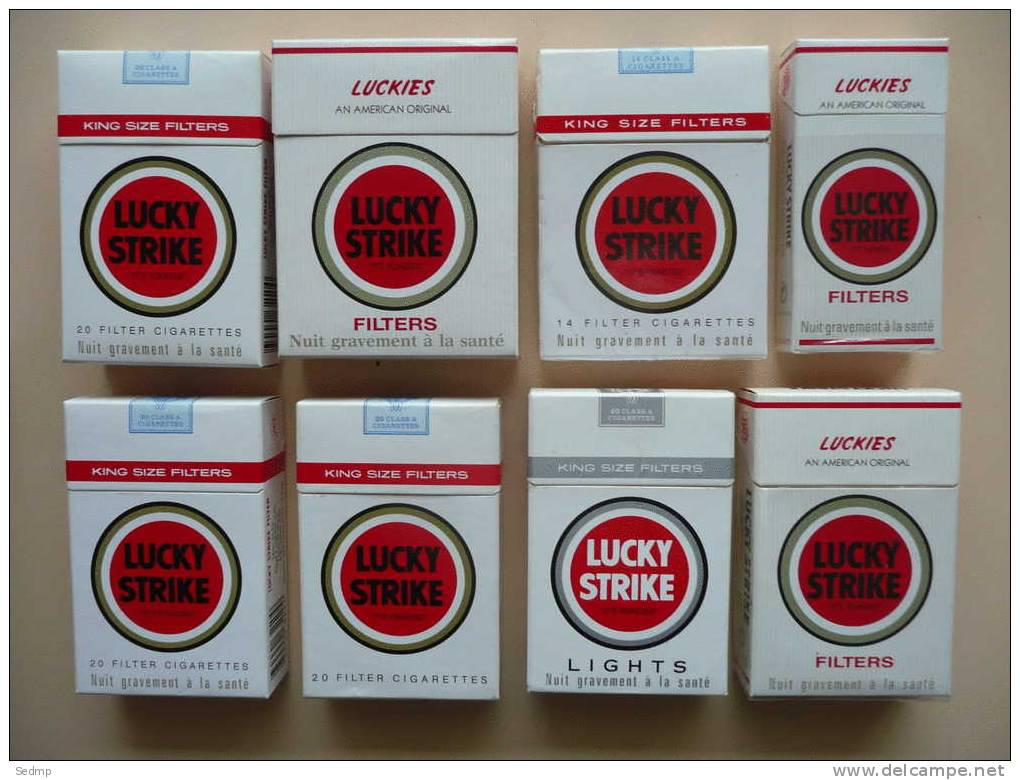lucky_strike_red: (275, 43, 517, 353), (539, 53, 765, 362), (56, 53, 263, 365), (529, 398, 732, 693), (296, 405, 498, 698), (756, 396, 953, 696), (70, 405, 265, 693), (796, 41, 946, 350)
